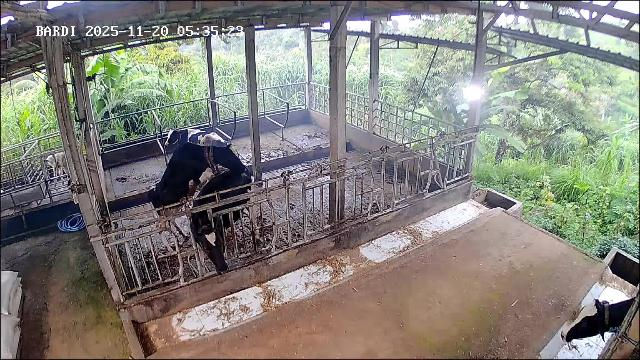mounting: (147, 140, 243, 244)
